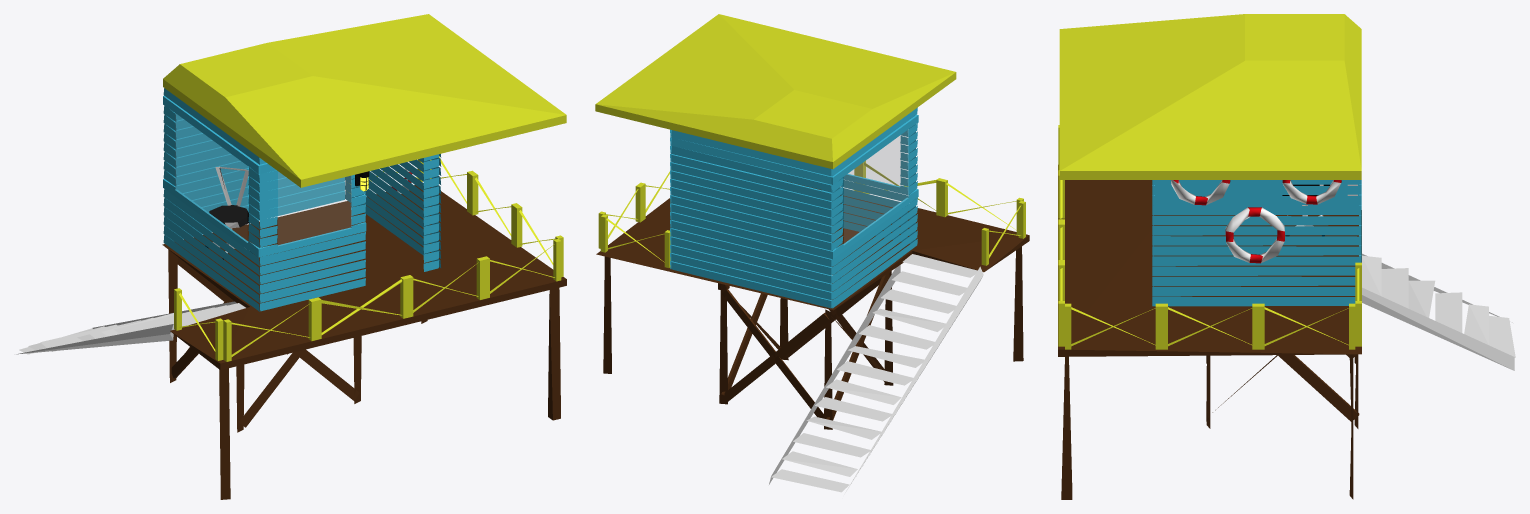
File: Lifeguard Shack.glb
The picture shows the model from 3 angles, left to right: view 1: azimuth 30°, elevation 25°; view 2: azimuth 150°, elevation 25°; view 3: azimuth 270°, elevation 25°; orthographic projection. The views are drawn at different scales.
Visible parts, largest first — view 1: Walls & Roof, Supports, Fences, Stairs, Chair; view 2: Walls & Roof, Supports, Stairs, Fences; view 3: Walls & Roof, Supports, Stairs, Fences, Life Preserver.002, Life Preserver, Life Preserver.001.
Part boxes in pixels (box(x1,y1,x2,y2)): Walls & Roof: box(163, 14, 566, 311); Supports: box(162, 185, 566, 499); Fences: box(174, 156, 563, 361); Stairs: box(16, 301, 245, 354); Chair: box(205, 166, 249, 259); Walls & Roof: box(595, 14, 956, 308); Supports: box(596, 176, 1029, 429); Stairs: box(769, 254, 983, 494); Fences: box(598, 161, 1025, 267); Walls & Roof: box(1059, 14, 1361, 306); Supports: box(1058, 165, 1361, 499); Stairs: box(1362, 253, 1515, 370); Fences: box(1058, 125, 1361, 349); Life Preserver.002: box(1225, 207, 1284, 263); Life Preserver: box(1171, 180, 1230, 205); Life Preserver.001: box(1282, 180, 1341, 204).
Size of what is drawn, in the model's own units: 5.47 by 4.96 by 5.71.
